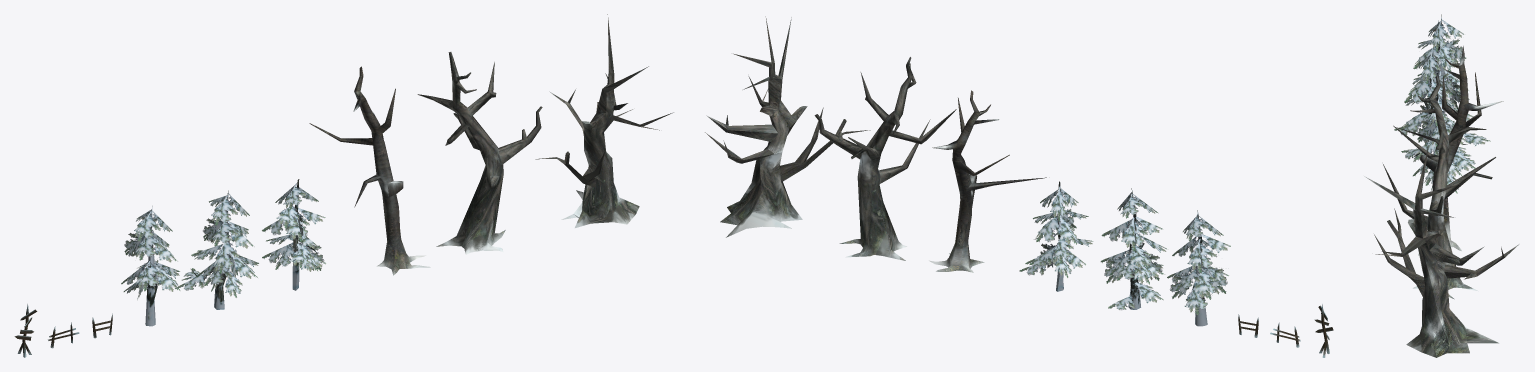
File: S7_new3d_xue_moxing001.FBX
The picture shows the model from 3 angles, left to right: view 1: azimuth 30°, elevation 25°; view 2: azimuth 150°, elevation 25°; view 3: azimuth 270°, elevation 25°; orthographic projection. The views are drawn at different scales.
Parts seen in each view (by area): view 1: S7_new3d_xue_kushu002, S7_new3d_xue_kushu003, S7_new3d_xue_songshu002, S7_new3d_xue_kushu001, S7_new3d_xue_songshu001, S7_new3d_xue_songshu003; view 2: S7_new3d_xue_kushu003, S7_new3d_xue_kushu002, S7_new3d_xue_songshu002, S7_new3d_xue_songshu001, S7_new3d_xue_kushu001, S7_new3d_xue_songshu003; view 3: S7_new3d_xue_kushu003, S7_new3d_xue_kushu002, S7_new3d_xue_kushu001, S7_new3d_xue_songshu002, S7_new3d_xue_songshu003, S7_new3d_xue_songshu001.
Part boxes in pixels (bbox=[...]): S7_new3d_xue_kushu002: bbox=[417, 52, 542, 254]; S7_new3d_xue_kushu003: bbox=[535, 14, 673, 227]; S7_new3d_xue_songshu002: bbox=[175, 190, 258, 309]; S7_new3d_xue_kushu001: bbox=[309, 66, 430, 275]; S7_new3d_xue_songshu001: bbox=[121, 206, 180, 326]; S7_new3d_xue_songshu003: bbox=[262, 179, 325, 290]; S7_new3d_xue_kushu003: bbox=[705, 16, 870, 237]; S7_new3d_xue_kushu002: bbox=[814, 57, 956, 260]; S7_new3d_xue_songshu002: bbox=[1100, 188, 1166, 310]; S7_new3d_xue_songshu001: bbox=[1167, 210, 1230, 326]; S7_new3d_xue_kushu001: bbox=[929, 90, 1046, 272]; S7_new3d_xue_songshu003: bbox=[1019, 181, 1093, 291]; S7_new3d_xue_kushu003: bbox=[1364, 145, 1519, 357]; S7_new3d_xue_kushu002: bbox=[1383, 75, 1495, 299]; S7_new3d_xue_kushu001: bbox=[1396, 46, 1503, 255]; S7_new3d_xue_songshu002: bbox=[1394, 48, 1490, 153]; S7_new3d_xue_songshu003: bbox=[1401, 93, 1475, 193]; S7_new3d_xue_songshu001: bbox=[1408, 14, 1469, 113].
Size of the model in its own units: 43.1 by 13.41 by 9.71.
2 materials, 2 textured.
